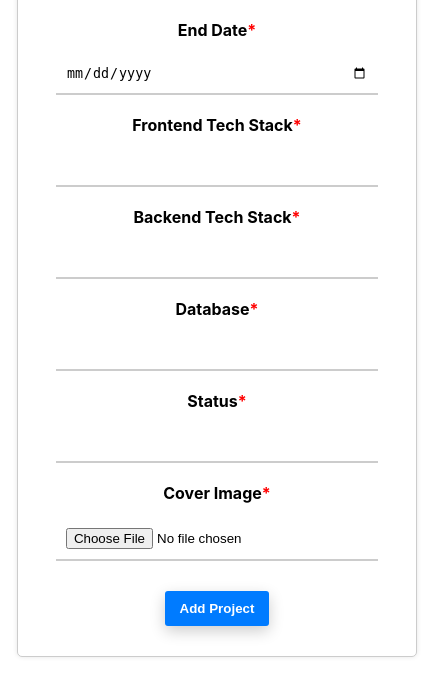
Test: ProjectForm Component › frontend_project_form_component_displays_validation_messages_when_submit_button_is_clicked_with_empty_fields
The image size is (435, 687).
(page scrolled)
Click the button "Add Project" at (217, 608), box [165,591,269,626]
(page scrolled)
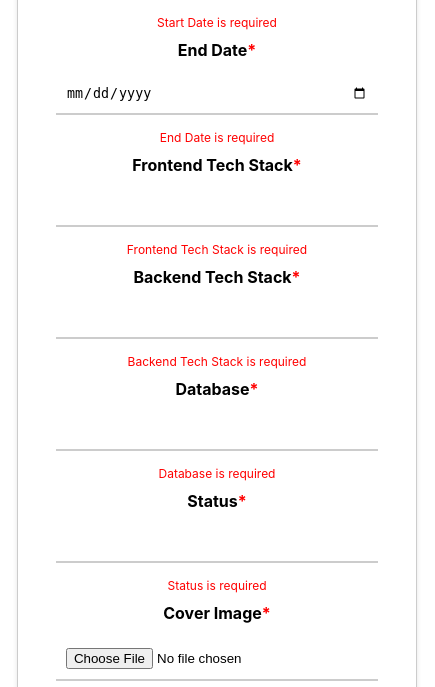
Result: the text "Start Date is required" is shown at [157,15,277,30]
